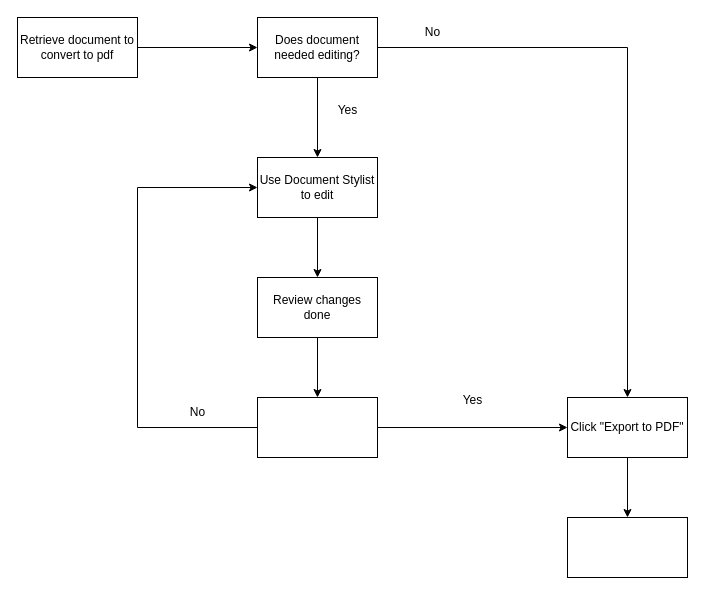
Some shapes in this 705 by 595 pixel diagram are drawn without their labels. Each missing label, with the box of its shape:
Satisfied with editing?: (256, 396, 378, 458)
View PDF: (566, 516, 688, 578)
